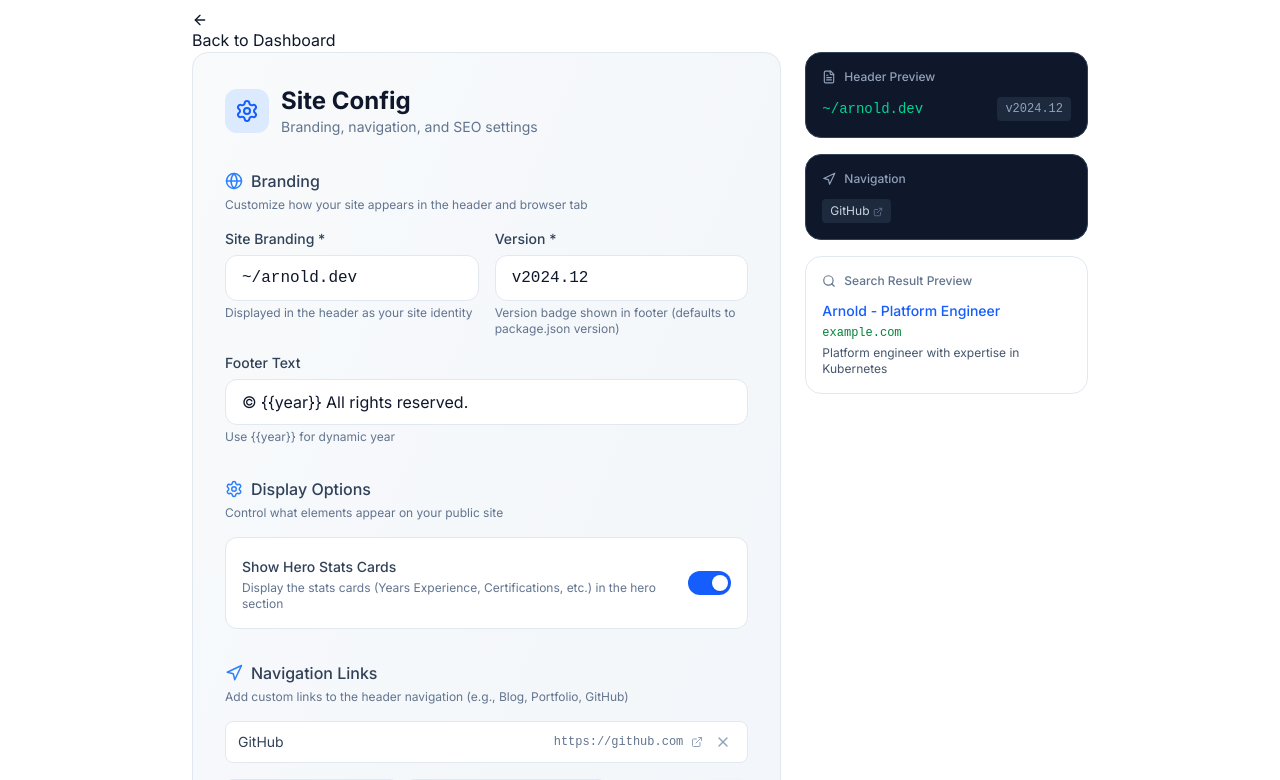
Test case: SiteConfigEditor › preview panel › updates preview when branding changes
The width and height of the screenshot is (1280, 780).
Change branding
Step 1. Type "~/new-brand" into the field showing "~/arnold.dev" below "Site Branding *" → (352, 278), box [225,255,479,301]
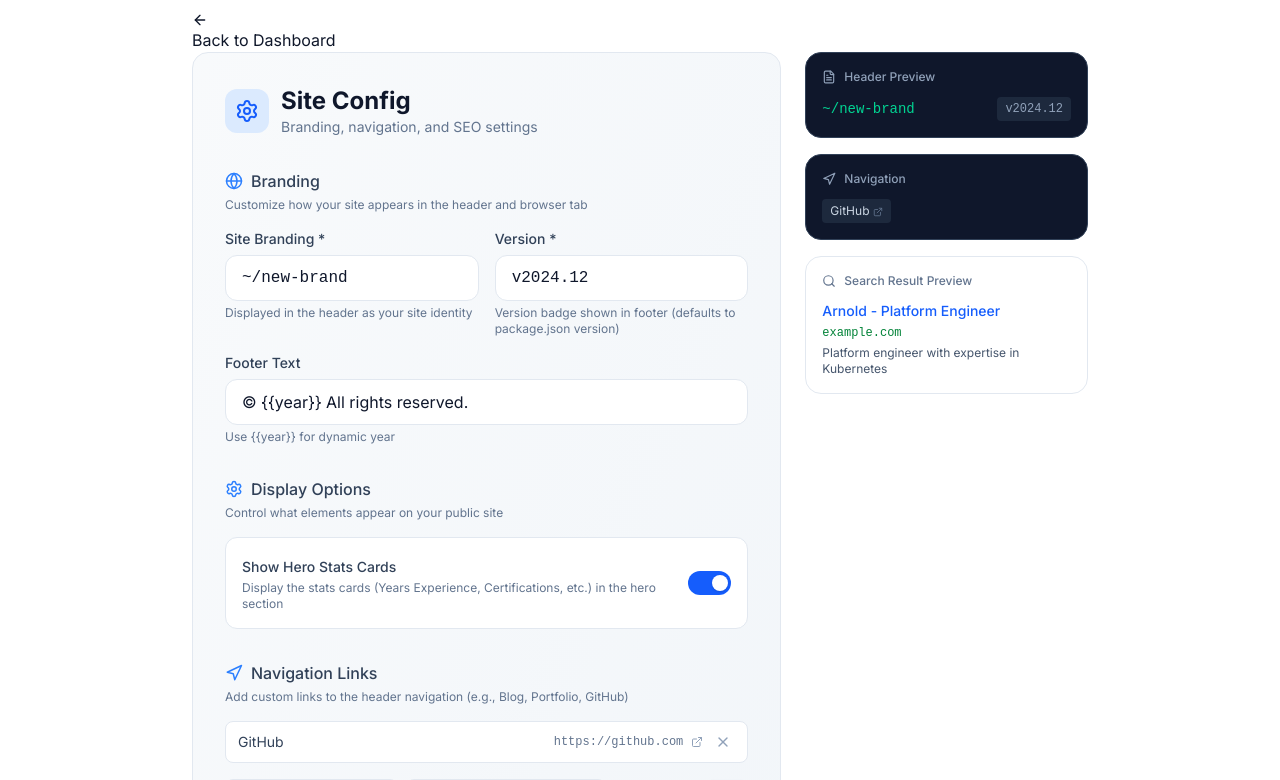
expect the text "~/new-brand" is shown: met, box [822,99,915,119]
